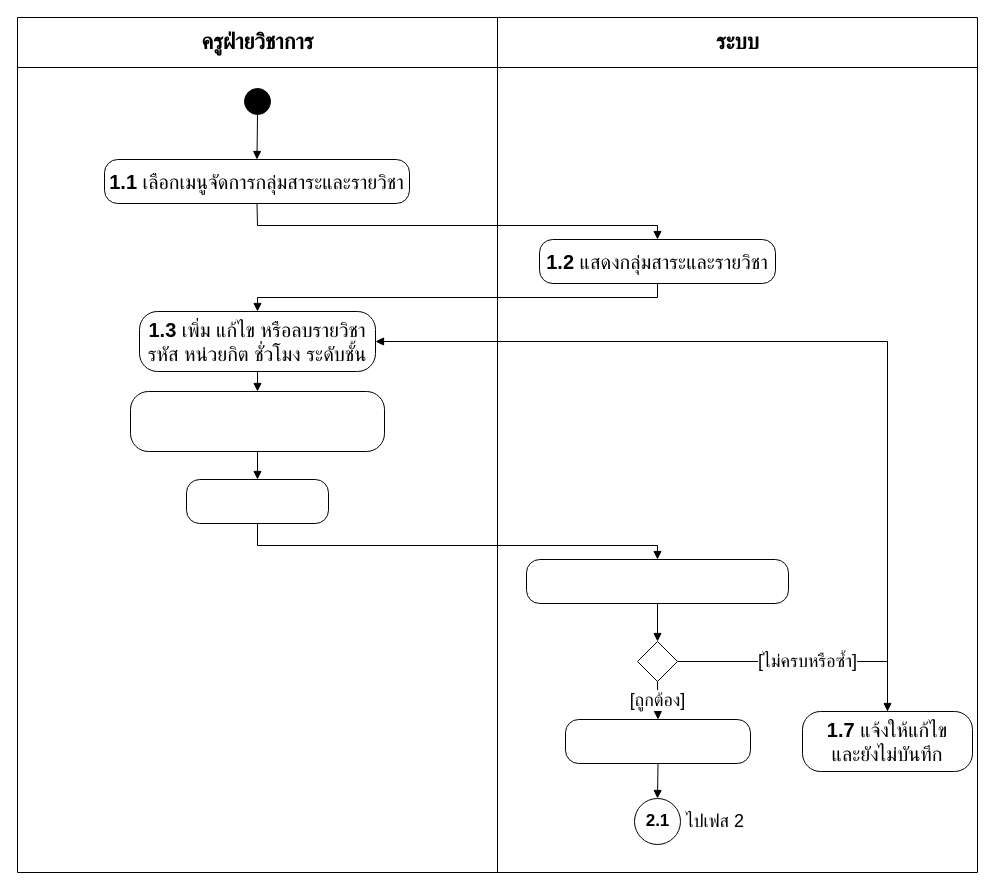
The diagram is 995 pixels wide and 890 high, and some of its shapes have lost their labels. Each missing label, with the box of its shape:
1.4 กำหนดโครงสร้างคะแนนตั้งต้น และตัวชี้วัดของรายวิชา: (130, 390, 384, 452)
1.5 กด “บันทึก”: (186, 478, 328, 524)
1.6 ตรวจความครบถ้วนและความซ้ำ: (526, 558, 788, 604)
1.8 บันทึกข้อมูลรายวิชา: (564, 718, 750, 764)
